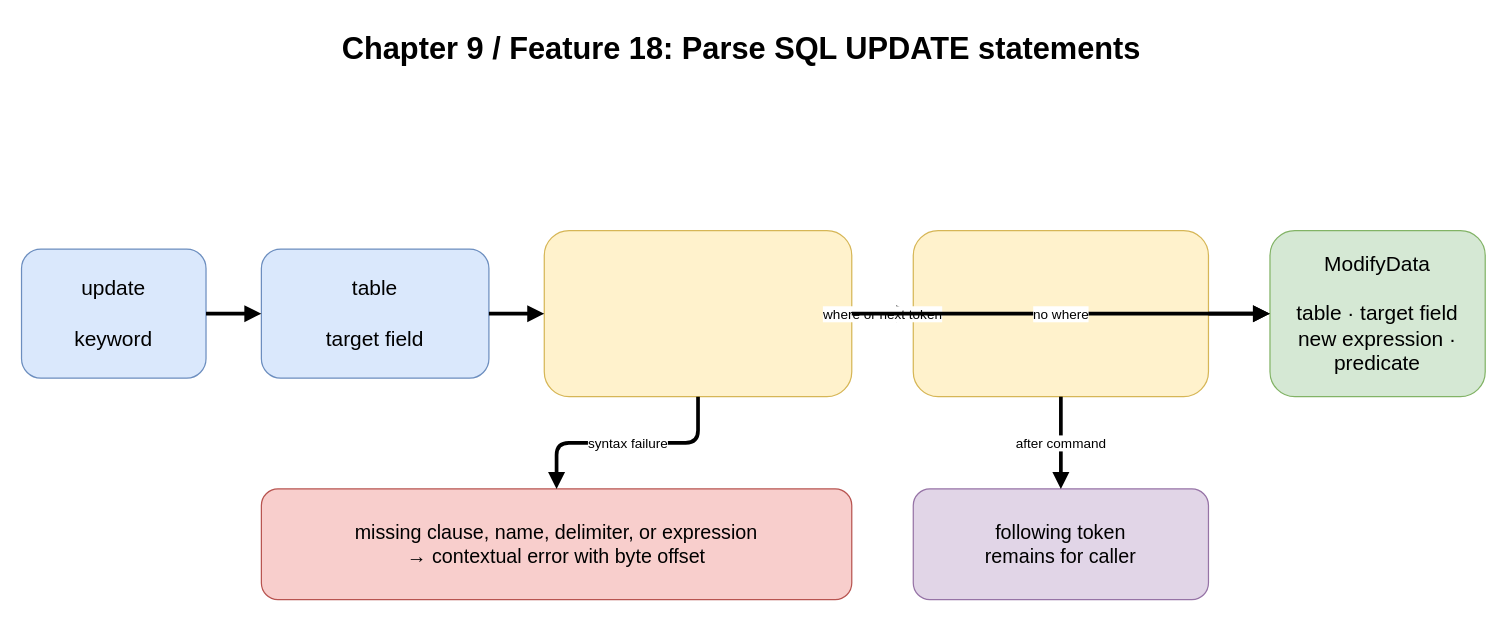
Image size: 1507x621. Some labels were removed from this diagram. The centre of each missing label's shape, as x and y in pixels:
"optional where predicate ordered terms joined by and" belongs at [1060,313].
"set field = expression field, constant, or literal" belongs at [697,313].
